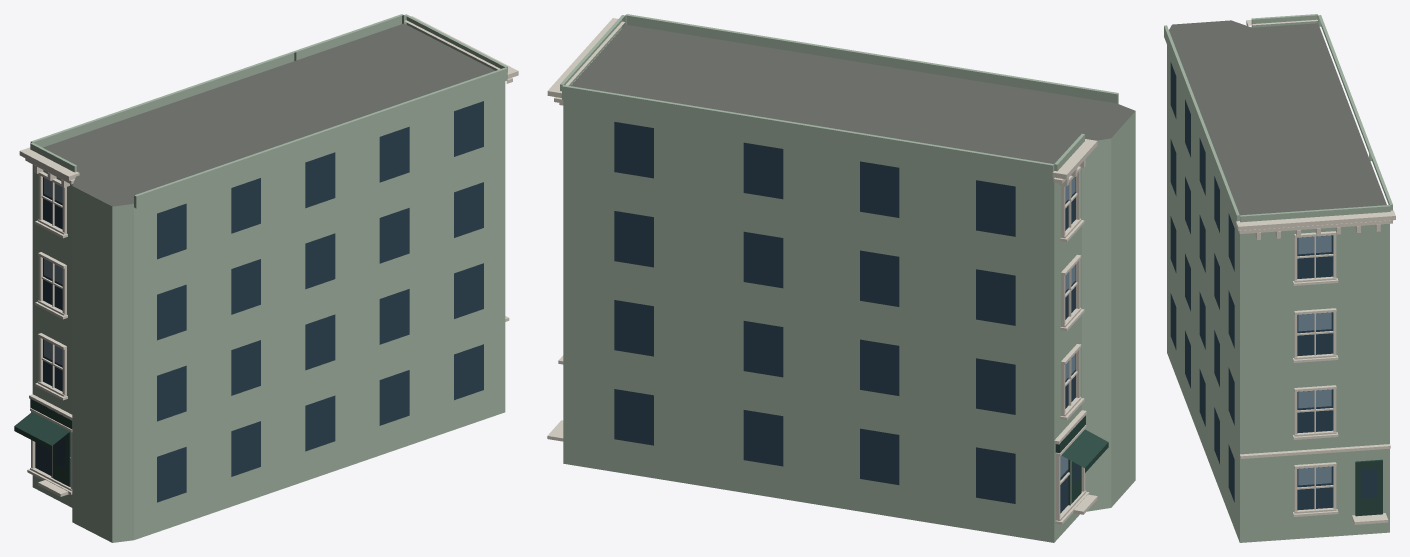
3 views of the same model, side by side, from view 1: azimuth 30°, elevation 25°; view 2: azimuth 150°, elevation 25°; view 3: azimuth 270°, elevation 25° (orthographic). The views are drawn at different scales.
Parts seen in each view (by area): view 1: Footprint 0 / surface 2, Inset glazing, Footprint 0 / surface 1, Facade bay volumes, Cornices and window frames, Storefronts and doors, Sky reflection panels; view 2: Footprint 0 / surface 2, Footprint 0 / surface 1, Inset glazing, Facade bay volumes, Cornices and window frames, Storefronts and doors; view 3: Footprint 0 / surface 2, Footprint 0 / surface 1, Inset glazing, Cornices and window frames, Facade bay volumes, Sky reflection panels, Storefronts and doors.
Part boxes in pixels (x1=…): Footprint 0 / surface 2: x1=32, y1=81, x2=505, y2=542; Inset glazing: x1=35, y1=101, x2=483, y2=502; Footprint 0 / surface 1: x1=43, y1=23, x2=495, y2=206; Facade bay volumes: x1=30, y1=14, x2=507, y2=208; Cornices and window frames: x1=19, y1=16, x2=518, y2=496; Storefronts and doors: x1=14, y1=398, x2=72, y2=486; Sky reflection panels: x1=44, y1=177, x2=62, y2=365; Footprint 0 / surface 2: x1=563, y1=100, x2=1135, y2=542; Footprint 0 / surface 1: x1=571, y1=24, x2=1135, y2=163; Inset glazing: x1=614, y1=122, x2=1079, y2=513; Facade bay volumes: x1=560, y1=14, x2=1118, y2=178; Cornices and window frames: x1=547, y1=18, x2=1097, y2=524; Storefronts and doors: x1=1055, y1=415, x2=1108, y2=505; Footprint 0 / surface 2: x1=1167, y1=45, x2=1389, y2=542; Footprint 0 / surface 1: x1=1169, y1=20, x2=1386, y2=215; Inset glazing: x1=1170, y1=62, x2=1377, y2=510; Cornices and window frames: x1=1236, y1=19, x2=1395, y2=524; Facade bay volumes: x1=1164, y1=14, x2=1392, y2=223; Sky reflection panels: x1=1298, y1=235, x2=1331, y2=485; Storefronts and doors: x1=1355, y1=459, x2=1382, y2=516.
Size of the model in its own units: 20.27 by 14.3 by 9.17.
